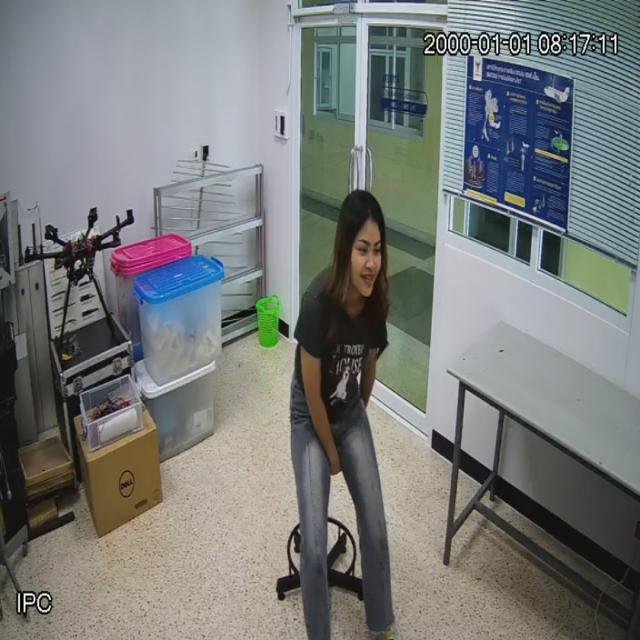normal: (292, 193, 390, 640)
